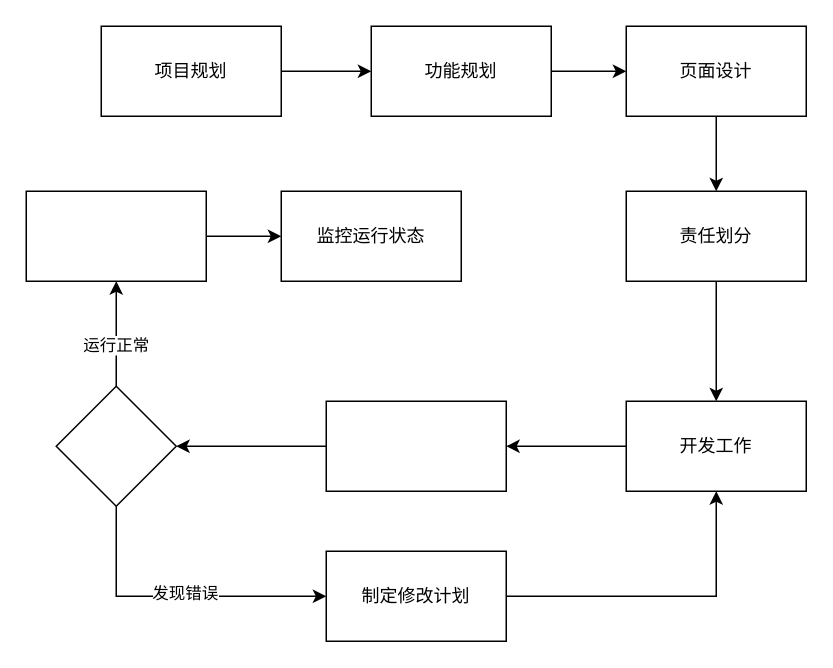
This 833x668 diagram has some shape labels left out. Each missing label, with the centre of its shape:
"测试运行" goes at point 415,445.
"部署上线" goes at point 115,235.
"错误排查" goes at point 115,445.
